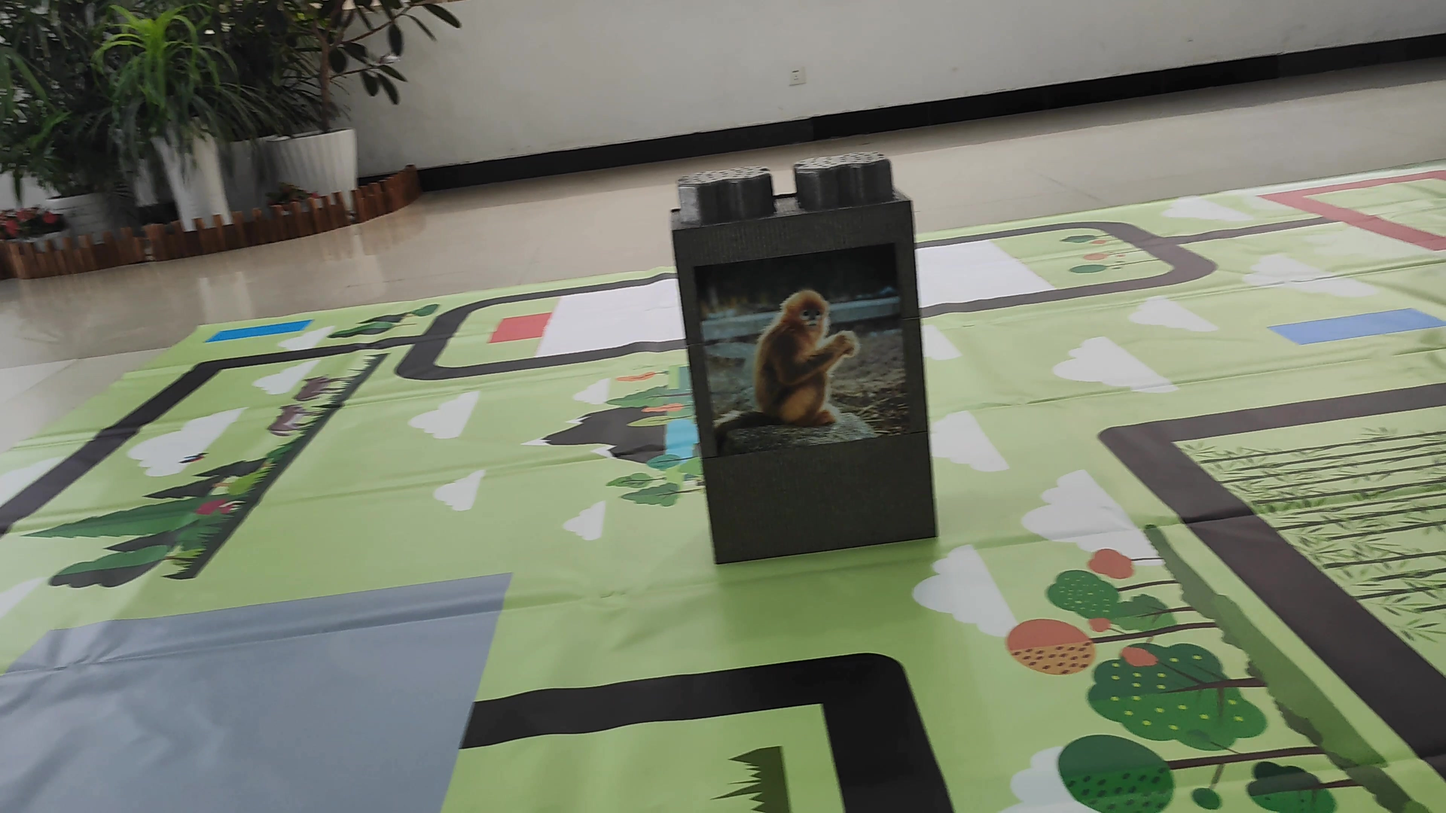monkey: (705, 267, 871, 455)
